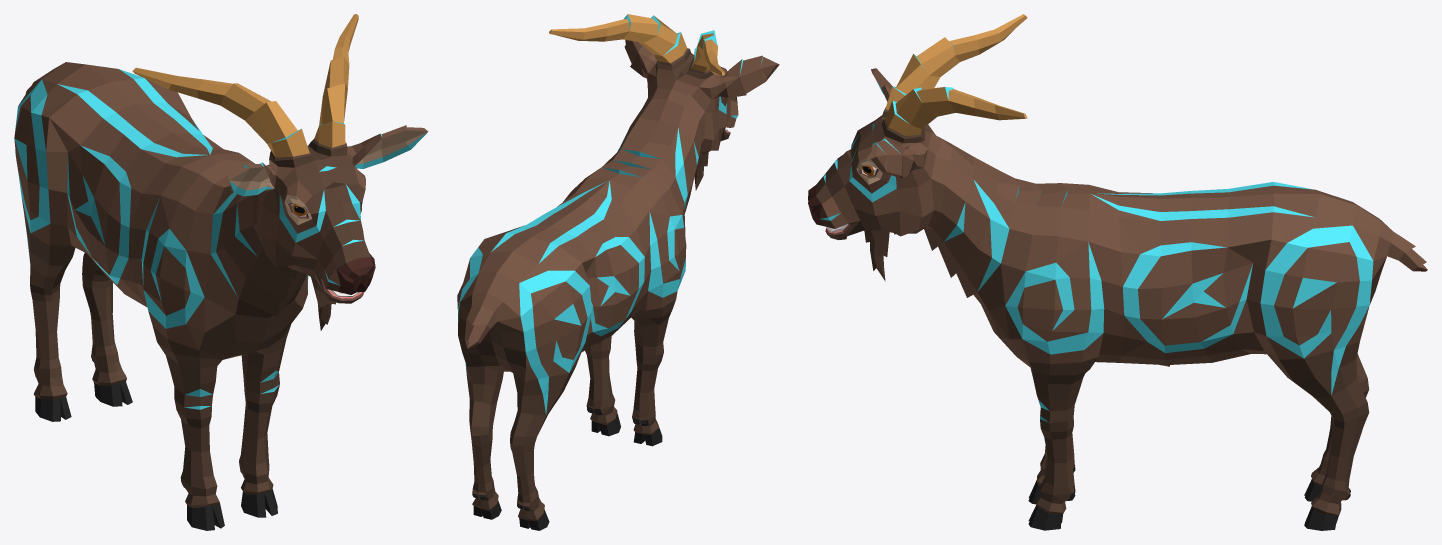
Rendered from LowPoly_Goat_Male_9.obj.
3 views of the same model, side by side, from view 1: azimuth 30°, elevation 25°; view 2: azimuth 150°, elevation 25°; view 3: azimuth 270°, elevation 25° (orthographic). The views are drawn at different scales.
Visible parts, largest first — view 1: Goat_Male_9_Cube.018; view 2: Goat_Male_9_Cube.018; view 3: Goat_Male_9_Cube.018.
Boxes of the visible parts, x1=… form: Goat_Male_9_Cube.018: x1=14, y1=14, x2=428, y2=530; Goat_Male_9_Cube.018: x1=457, y1=14, x2=779, y2=530; Goat_Male_9_Cube.018: x1=808, y1=14, x2=1427, y2=530.
Size of the model in its own units: 0.4623 by 0.9494 by 1.19.
